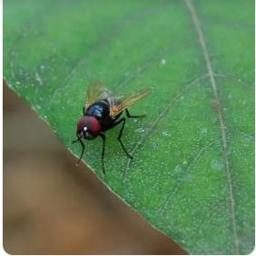liriomyza: (70, 78, 151, 176)
